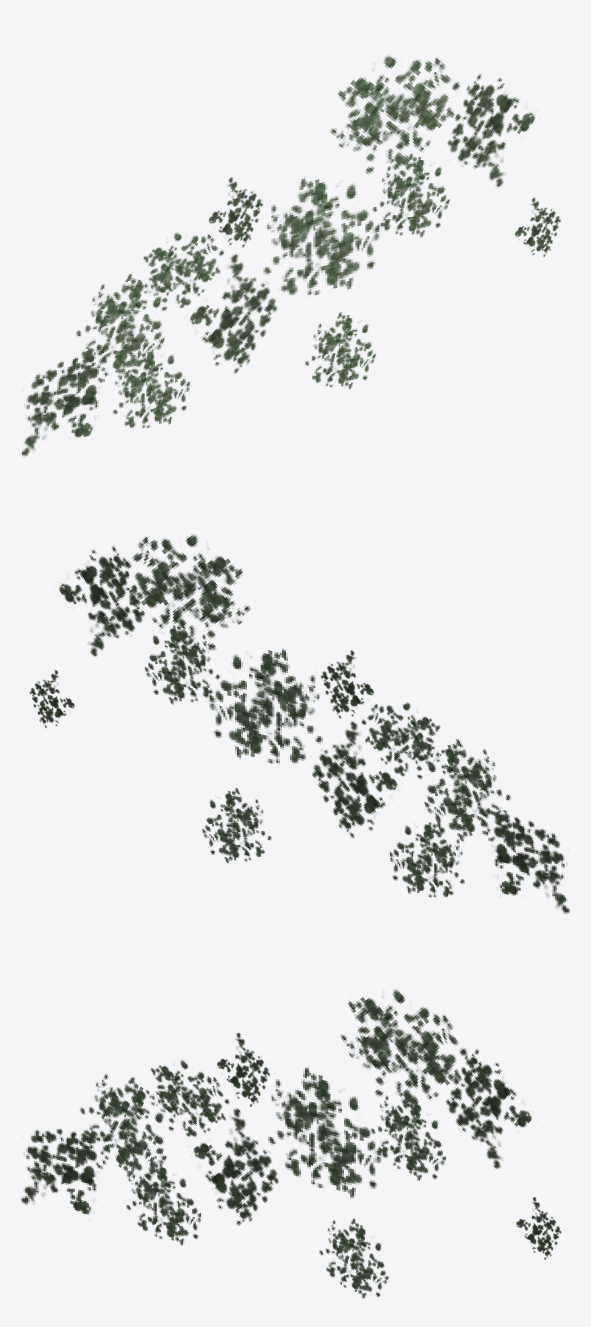
3 renders of one model, top to bottom at view 1: azimuth 30°, elevation 25°; view 2: azimuth 150°, elevation 25°; view 3: azimuth 330°, elevation 25°, orthographic. The views are drawn at different scales.
Parts seen in each view (by area): view 1: model_Object15; view 2: model_Object15; view 3: model_Object15.
Part boxes in pixels (box(x1,y1,x2,y2)): model_Object15: box(22, 55, 560, 456); model_Object15: box(29, 534, 569, 913); model_Object15: box(21, 989, 561, 1298).
Size of the model in its own units: 2.23 by 1.4 by 0.0726.
2 materials, 2 textured.
